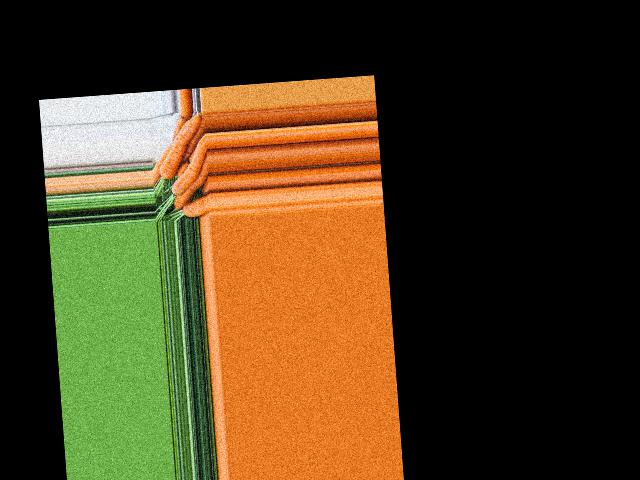carrot: (177, 195, 211, 221)
